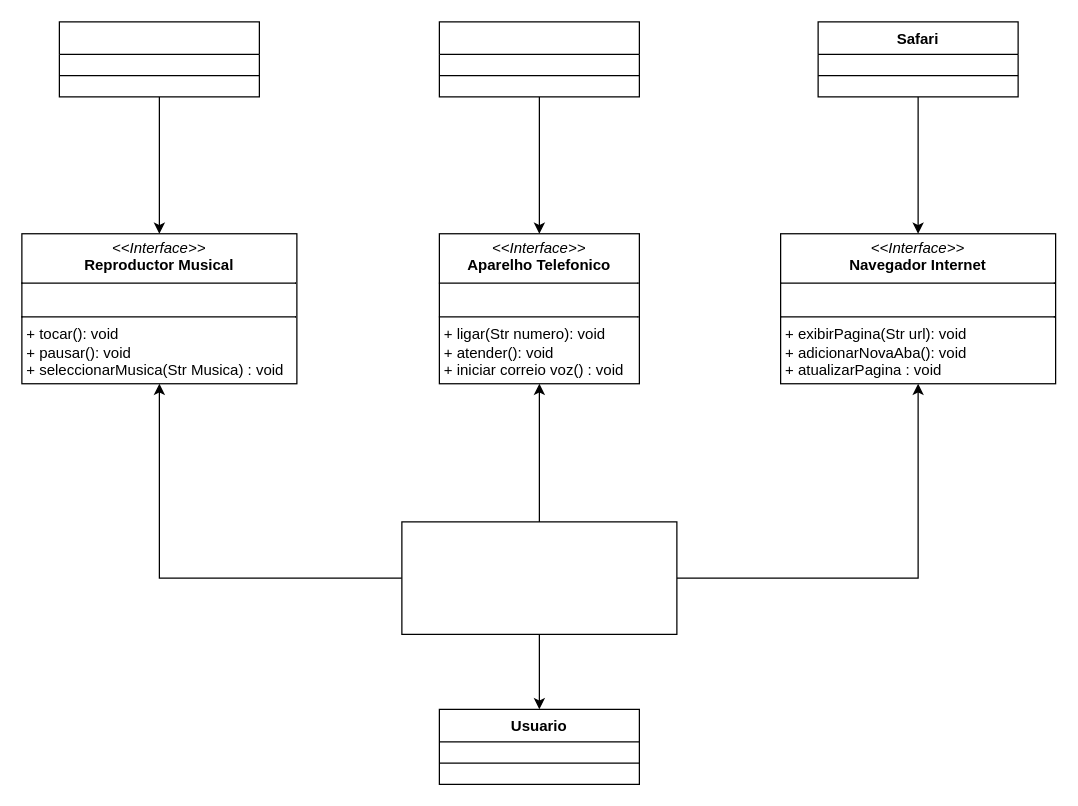
The diagram is 1078 pixels wide and 806 high, and some of its shapes have lost their labels. Here are the shapes that lost their labels. From the top down, the centre of each, then its label:
pixel 158 59: Apple Music
pixel 538 59: Telefono
pixel 539 577: <<Interface>> Iphone
